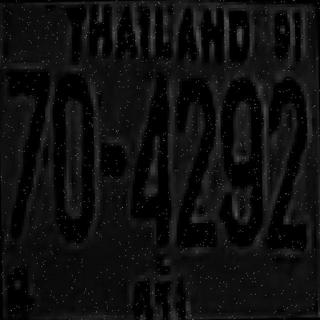N00: (50, 73, 94, 247)
N02: (262, 73, 306, 247), (176, 72, 218, 254)
N04: (126, 70, 179, 248)
N07: (7, 68, 51, 238)
N09: (219, 78, 262, 244)
P70: (118, 255, 192, 320)
